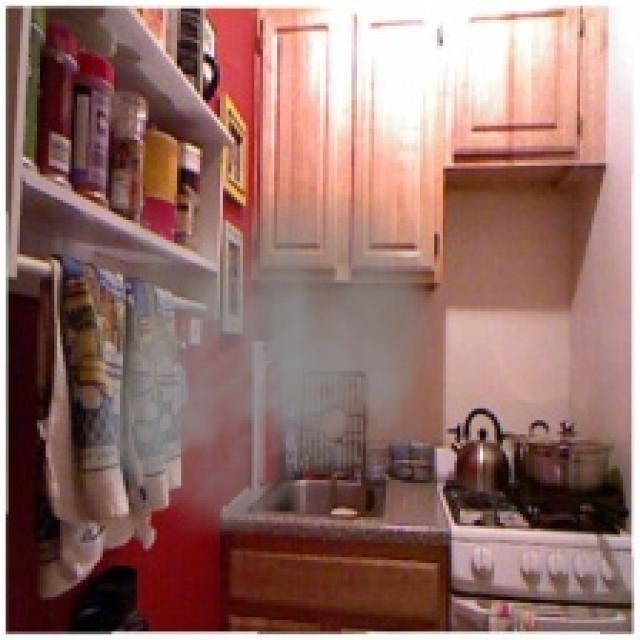smoke: (86, 194, 437, 549)
